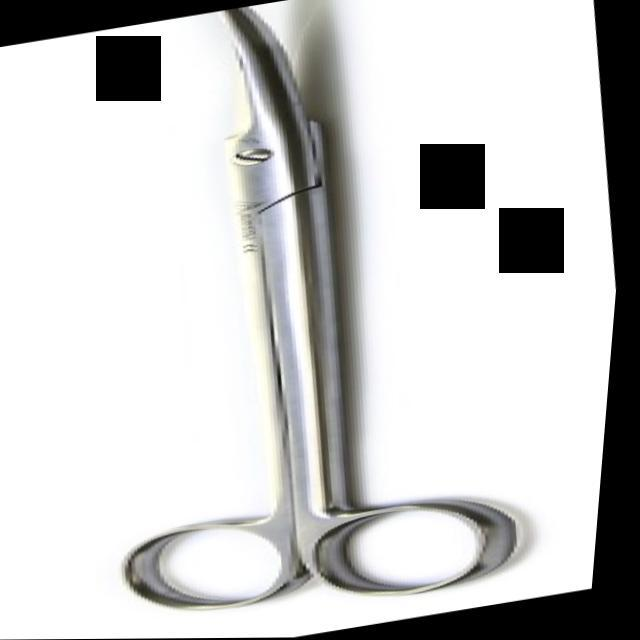Curved Mayo: (21, 0, 576, 640)
